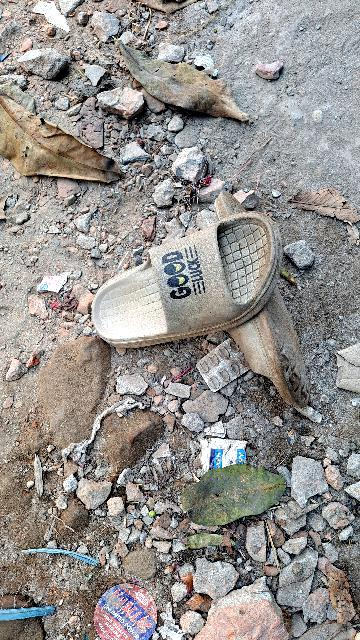sandal: (69, 208, 283, 356)
